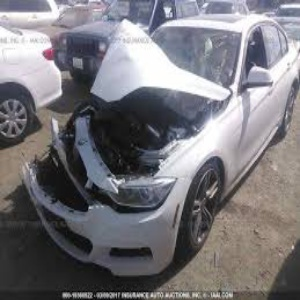bonnet: (86, 53, 227, 126)
bumper: (18, 152, 104, 231)
